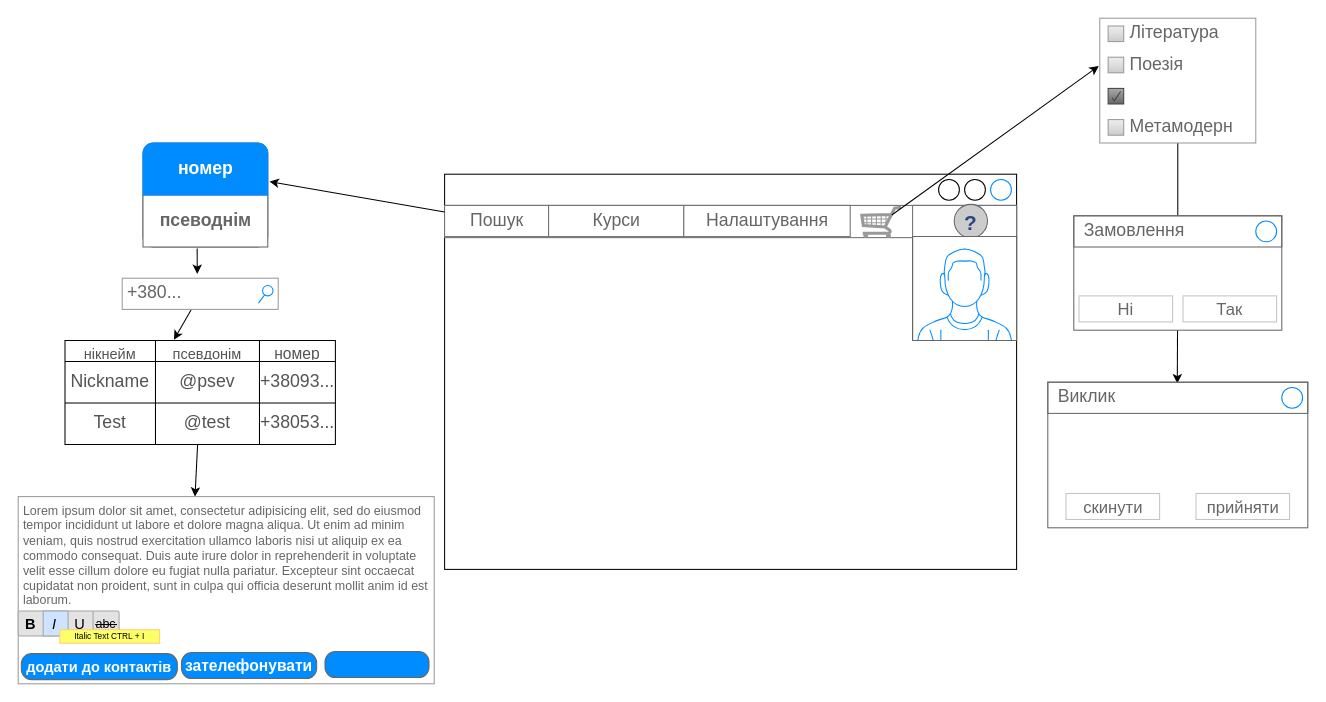
Image size: 1326x702. Some labels were removed from this diagram. The box of each missing label's shape, as (x1, y1, x2, y2) in pixels:
відправити: (324, 651, 429, 678)
Зробити замовлення?: (1073, 215, 1282, 330)
Основна сторінка: (444, 173, 1017, 569)
Постмодерн: (1107, 87, 1124, 104)
Телефонує "Курси": (1047, 381, 1308, 528)
